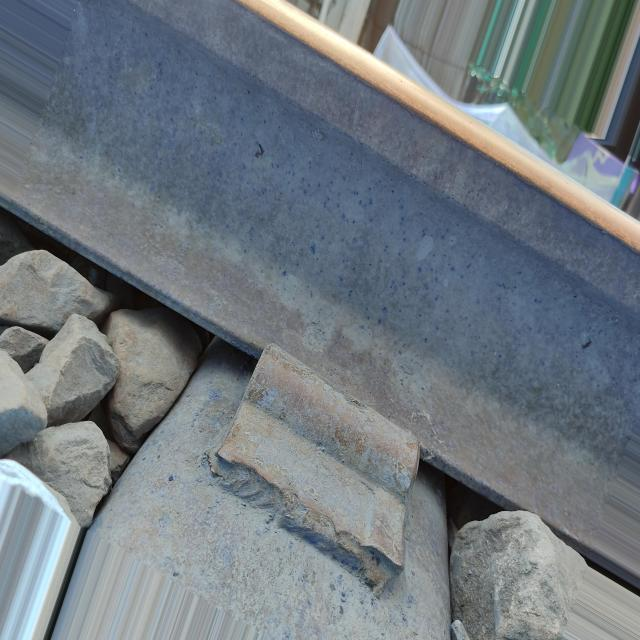Missing Fastener: (203, 324, 432, 590)
